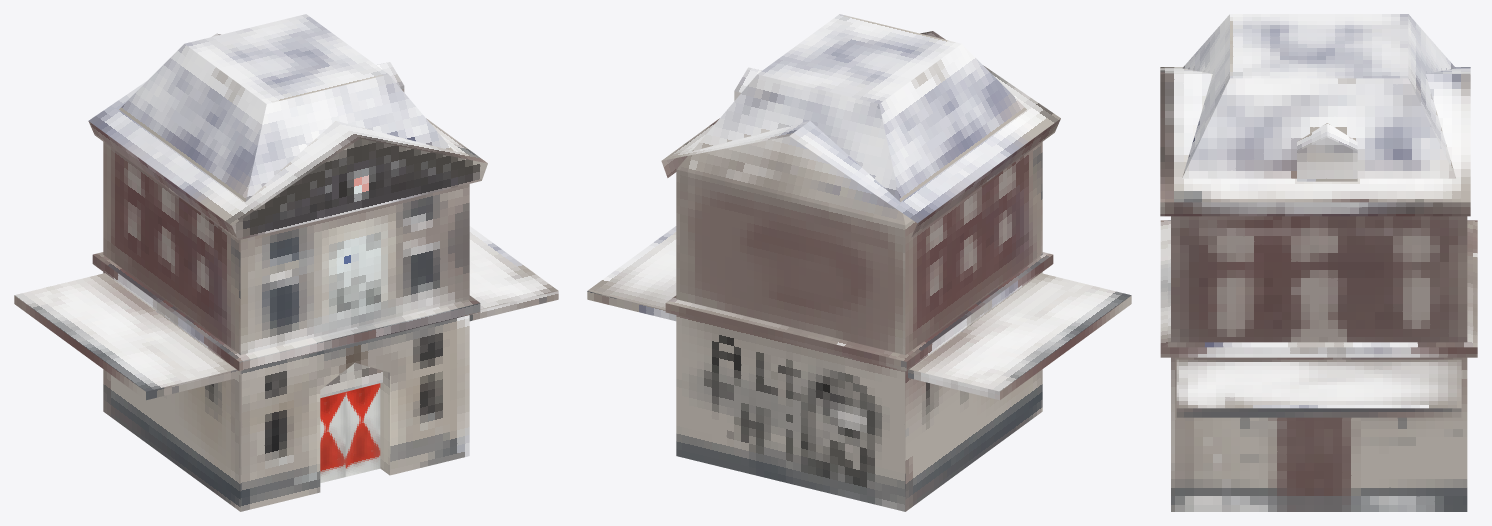
File: instBuild.glb
3 renders of one model, left to right at view 1: azimuth 30°, elevation 25°; view 2: azimuth 150°, elevation 25°; view 3: azimuth 270°, elevation 25°, orthographic. The views are drawn at different scales.
Visible parts, largest first — view 1: InstaBuld; view 2: InstaBuld; view 3: InstaBuld.
Part boxes in pixels (x1,y1,x2,y2): InstaBuld: [14, 14, 558, 511]; InstaBuld: [587, 14, 1131, 511]; InstaBuld: [1160, 14, 1477, 511].
Bounding box in the file's own units: 17 × 14.75 × 10.47.
Materials: 1 (1 with a texture image).
